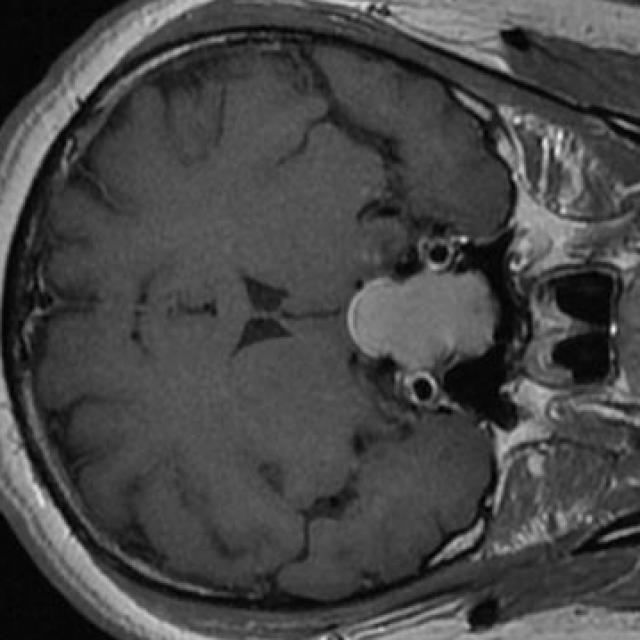pituitary: (348, 271, 496, 376)
